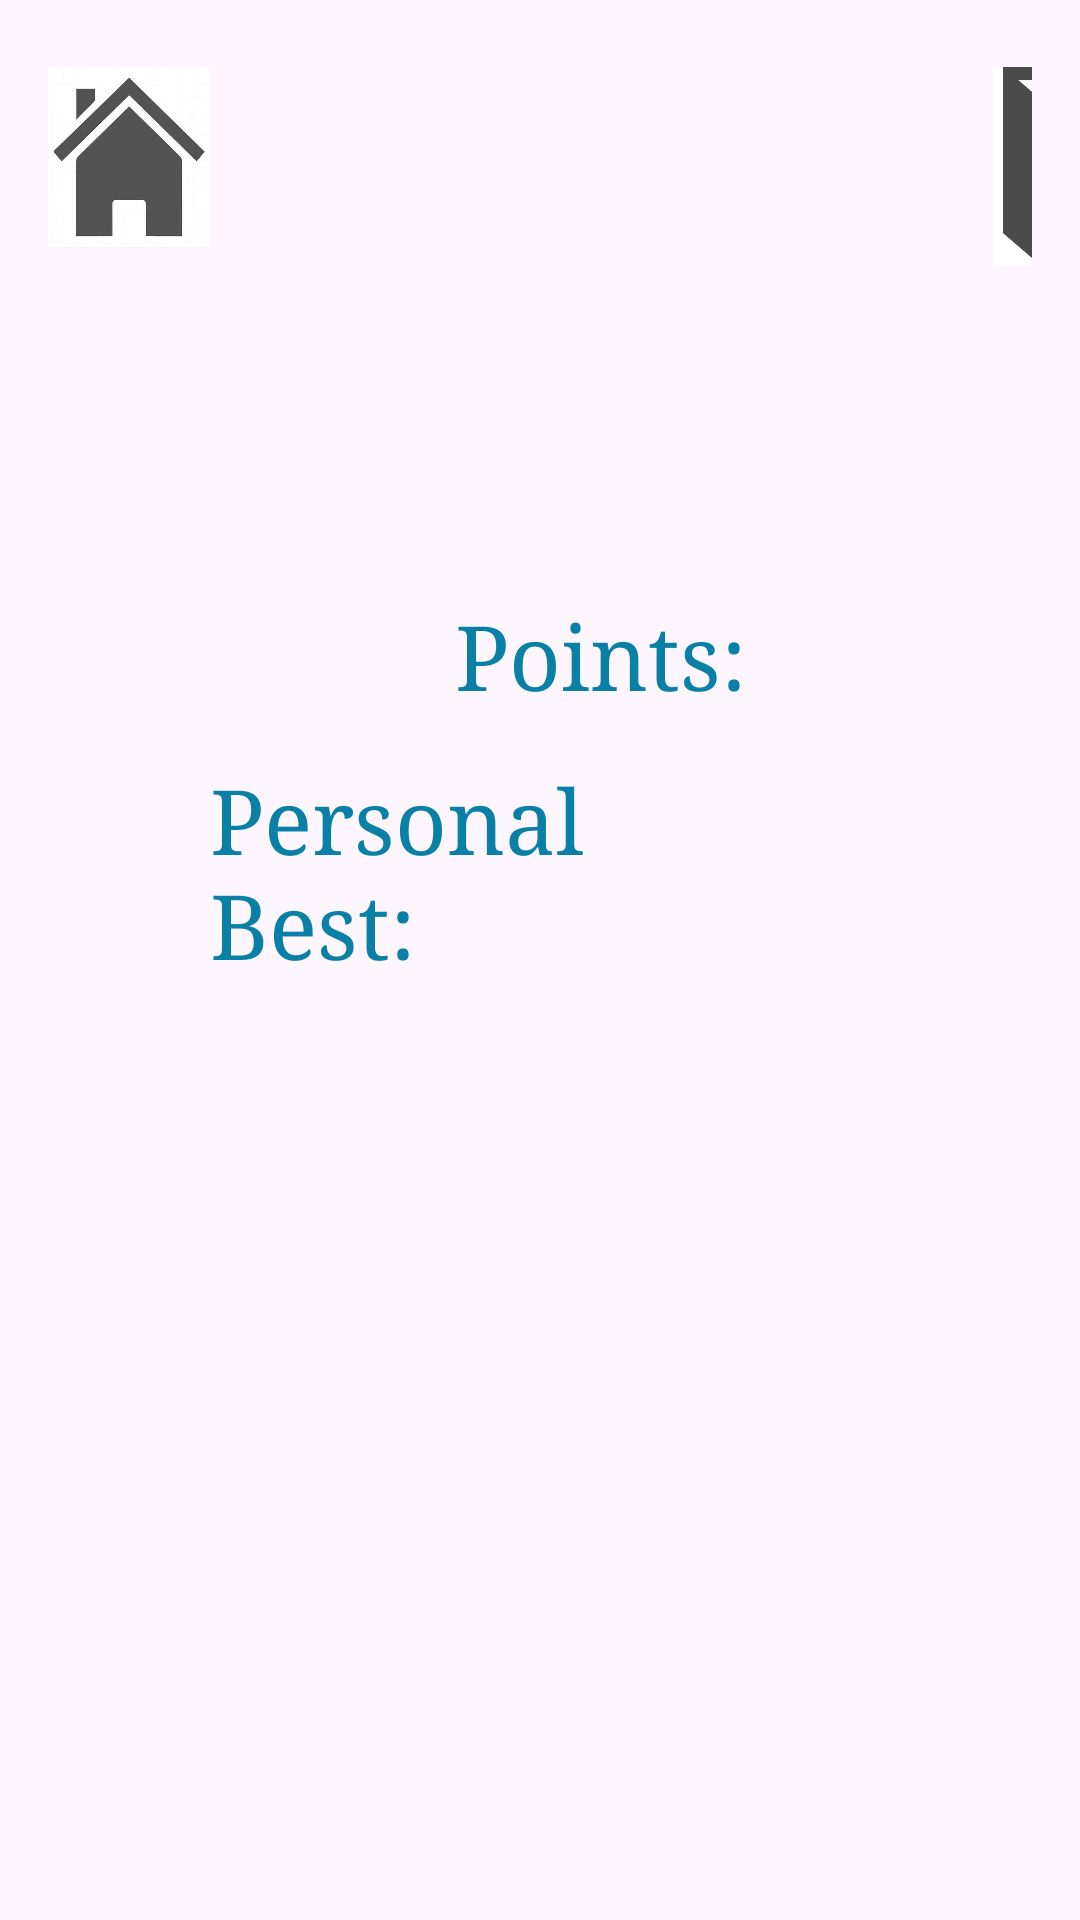

Icons on this 1080×1920 Android screen, each with the point to tap as (x,y):
hopage: (129,157)
